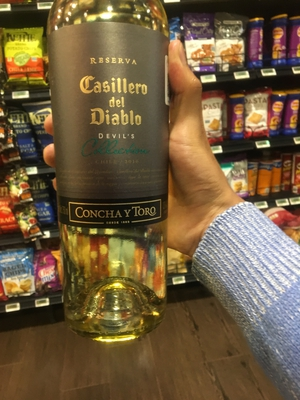casillero del diablo devils collection verde: (45, 5, 179, 338)
